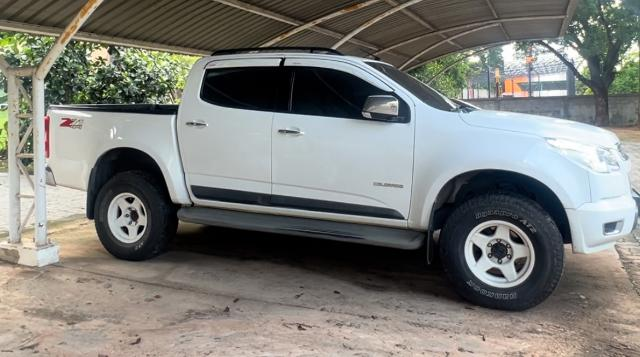pickup-truck: (38, 44, 640, 310)
